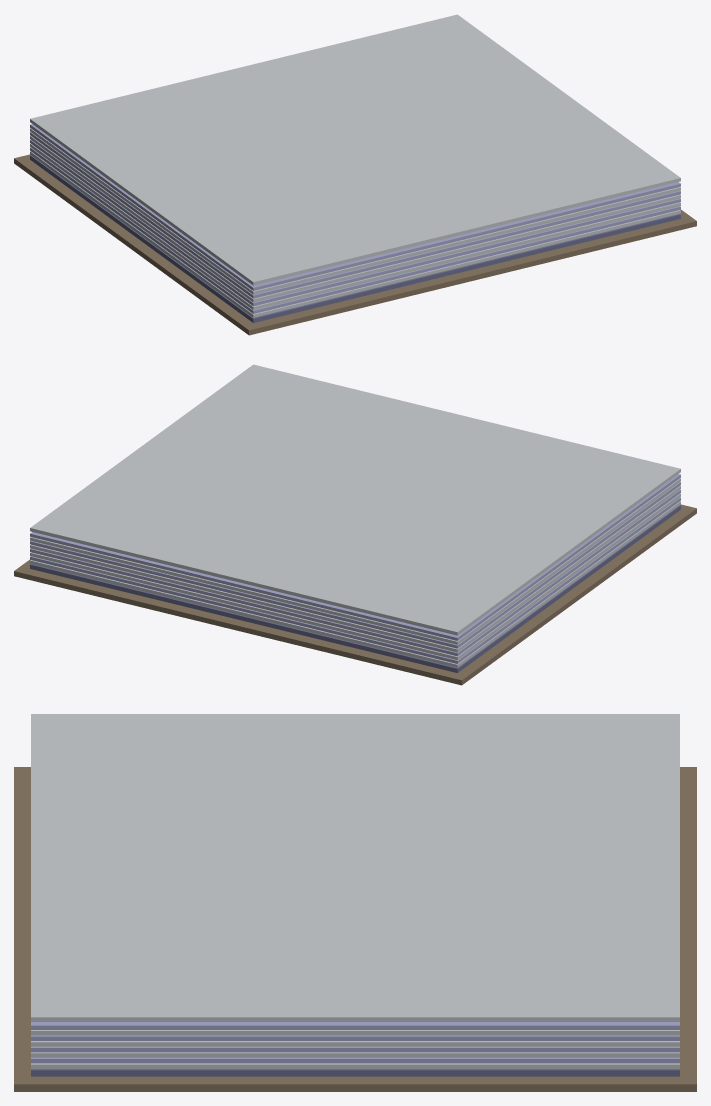
The model's file is hbm.glb.
3 renders of one model, top to bottom at view 1: azimuth 30°, elevation 25°; view 2: azimuth 150°, elevation 25°; view 3: azimuth 270°, elevation 25°, orthographic. The views are drawn at different scales.
Parts seen in each view (by area): view 1: cap, base, logic, die7, die0, die3, die4, die1, die5, die6, die2; view 2: cap, base, logic, die7, die0, die3, die4, die1, die5, die6, die2; view 3: cap, base, die7, logic, die1, die3, die0, die2, die4, die5, die6.
Boxes of the visible parts, left/top/right/bottom form: cap: left=30, top=14, right=680, bottom=285; base: left=14, top=154, right=696, bottom=335; logic: left=30, top=155, right=680, bottom=322; die7: left=30, top=124, right=680, bottom=290; die0: left=30, top=151, right=680, bottom=317; die3: left=30, top=139, right=680, bottom=306; die4: left=30, top=136, right=680, bottom=302; die1: left=30, top=147, right=680, bottom=313; die5: left=30, top=132, right=680, bottom=298; die6: left=30, top=128, right=680, bottom=294; die2: left=30, top=143, right=680, bottom=309; cap: left=30, top=364, right=680, bottom=635; base: left=14, top=504, right=696, bottom=685; logic: left=30, top=505, right=680, bottom=672; die7: left=30, top=474, right=680, bottom=640; die0: left=30, top=501, right=680, bottom=667; die3: left=30, top=489, right=680, bottom=656; die4: left=30, top=486, right=680, bottom=652; die1: left=30, top=497, right=680, bottom=663; die5: left=30, top=482, right=680, bottom=648; die6: left=30, top=478, right=680, bottom=644; die2: left=30, top=493, right=680, bottom=659; cap: left=31, top=714, right=679, bottom=1021; base: left=14, top=767, right=696, bottom=1091; die7: left=31, top=1022, right=679, bottom=1029; logic: left=31, top=1069, right=679, bottom=1076; die1: left=31, top=1057, right=679, bottom=1063; die3: left=31, top=1046, right=679, bottom=1052; die0: left=31, top=1063, right=679, bottom=1068; die2: left=31, top=1052, right=679, bottom=1057; die4: left=31, top=1041, right=679, bottom=1046; die5: left=31, top=1035, right=679, bottom=1040; die6: left=31, top=1030, right=679, bottom=1035.
Size of the model in its own units: 11 by 1.09 by 10.
